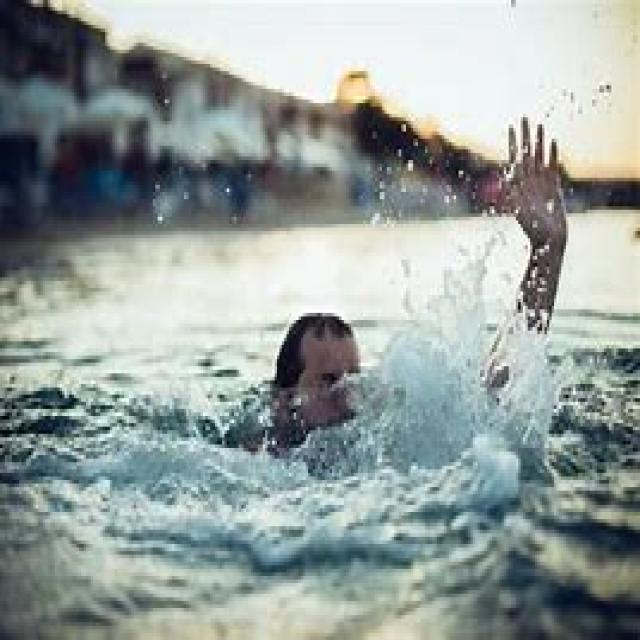drowning: (181, 80, 590, 523)
